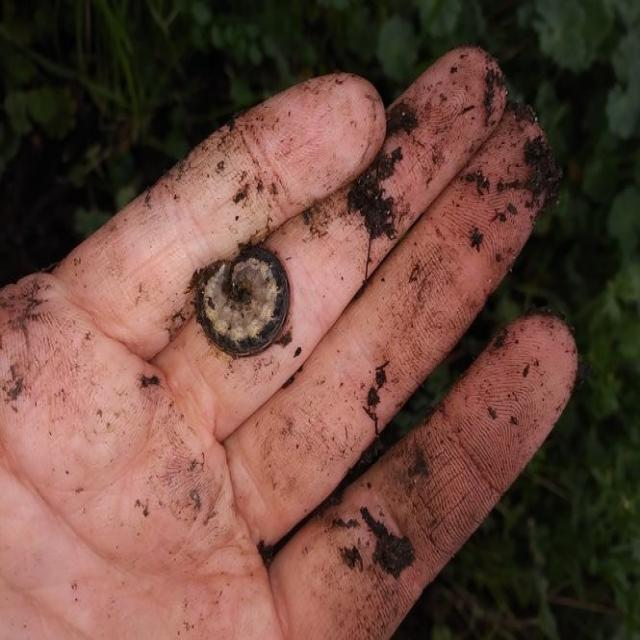Cutworm: (203, 254, 294, 366)
